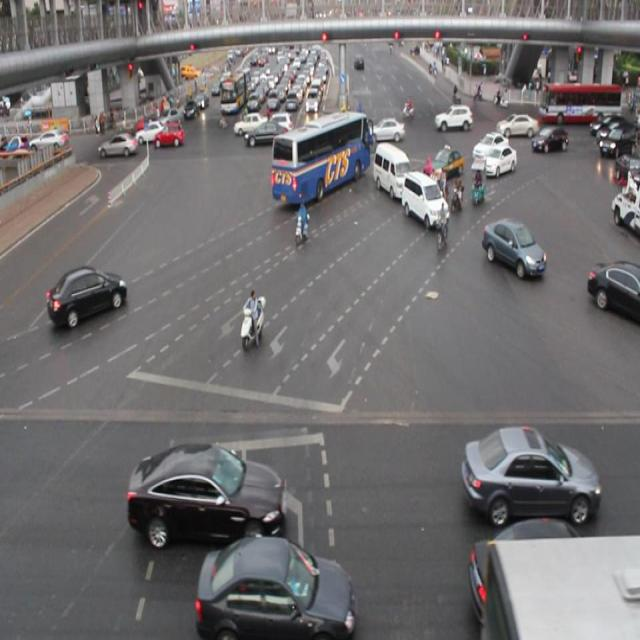car: (197, 530, 356, 640), (130, 441, 286, 544), (461, 416, 601, 526), (463, 515, 582, 619), (47, 260, 126, 324), (482, 217, 546, 278), (588, 254, 640, 323), (426, 142, 462, 176), (495, 113, 537, 141), (364, 116, 404, 144), (245, 124, 286, 149), (98, 132, 138, 157), (482, 146, 514, 177), (471, 130, 506, 157), (532, 127, 567, 154), (156, 121, 183, 149)
truck: (403, 174, 446, 229), (372, 141, 409, 197)
van: (485, 535, 639, 640), (273, 111, 368, 201)
